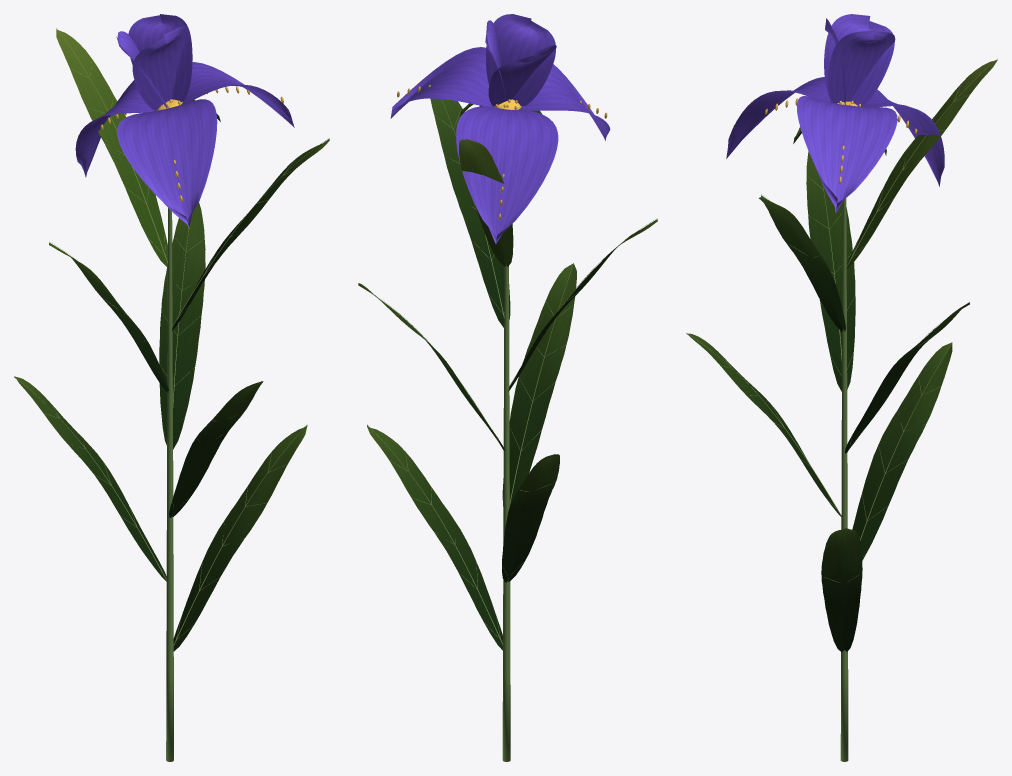
Rendered from iris-10.glb.
3 renders of one model, left to right at view 1: azimuth 30°, elevation 25°; view 2: azimuth 150°, elevation 25°; view 3: azimuth 270°, elevation 25°, orthographic.
Visible parts, largest first — view 1: iris_stage_10_leaf_veins.018, iris_stage_10_iris_petal.018, iris_stage_10_young_leaf.018, iris_stage_10_stem_fibres.018, iris_stage_10_raised_midveins.018; view 2: iris_stage_10_leaf_veins.018, iris_stage_10_iris_petal.018, iris_stage_10_stem_fibres.018, iris_stage_10_young_leaf.018, iris_stage_10_raised_midveins.018; view 3: iris_stage_10_leaf_veins.018, iris_stage_10_iris_petal.018, iris_stage_10_young_leaf.018, iris_stage_10_stem_fibres.018, iris_stage_10_raised_midveins.018.
Boxes of the visible parts, left/top/right/bottom form: iris_stage_10_leaf_veins.018: left=14, top=99, right=329, bottom=651; iris_stage_10_iris_petal.018: left=75, top=14, right=294, bottom=229; iris_stage_10_young_leaf.018: left=56, top=29, right=192, bottom=267; iris_stage_10_stem_fibres.018: left=166, top=208, right=173, bottom=761; iris_stage_10_raised_midveins.018: left=16, top=28, right=328, bottom=645; iris_stage_10_leaf_veins.018: left=358, top=98, right=657, bottom=650; iris_stage_10_iris_petal.018: left=390, top=14, right=610, bottom=244; iris_stage_10_stem_fibres.018: left=502, top=266, right=510, bottom=761; iris_stage_10_young_leaf.018: left=459, top=105, right=532, bottom=266; iris_stage_10_raised_midveins.018: left=367, top=99, right=657, bottom=645; iris_stage_10_leaf_veins.018: left=686, top=127, right=969, bottom=652; iris_stage_10_iris_petal.018: left=726, top=14, right=944, bottom=212; iris_stage_10_young_leaf.018: left=846, top=59, right=997, bottom=269; iris_stage_10_stem_fibres.018: left=840, top=198, right=848, bottom=761; iris_stage_10_raised_midveins.018: left=687, top=58, right=997, bottom=582.
Bounding box in the file's own units: 0.3134 × 0.8067 × 0.3097.
Materials: 6 (3 with a texture image).
